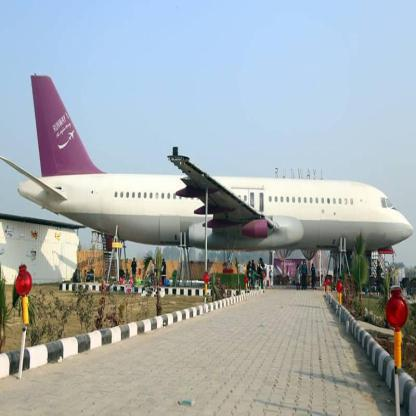CIV_Plane: (1, 72, 413, 279)
